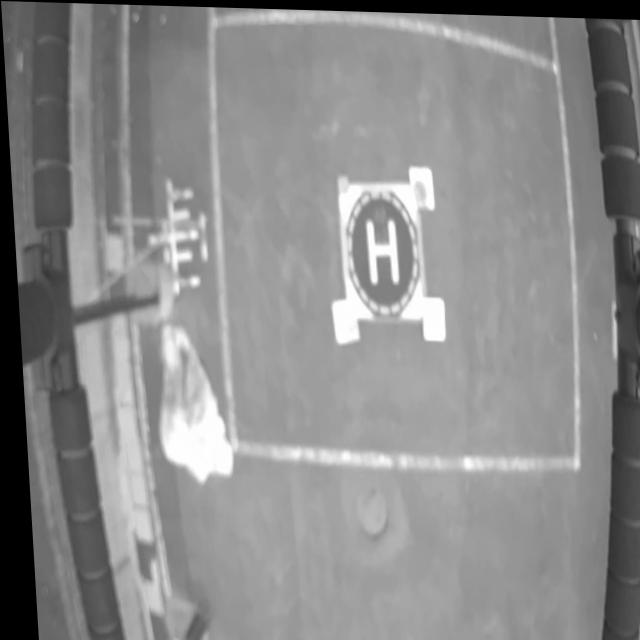Helipad: (363, 218, 396, 282)
